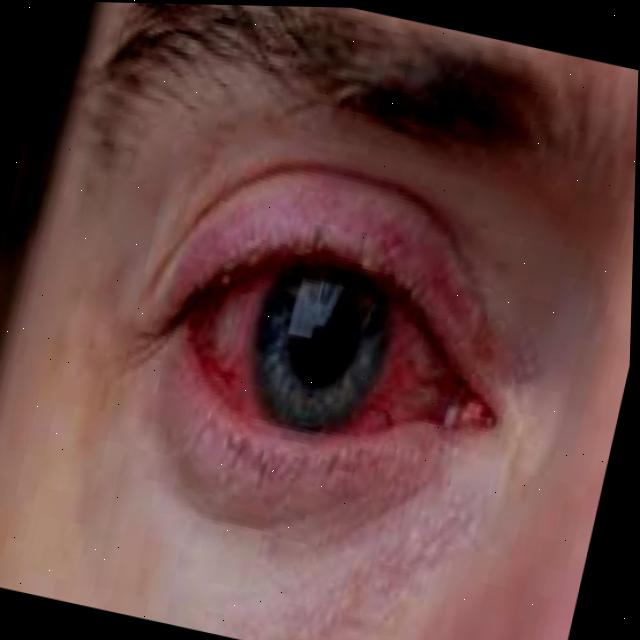Rosacea: (161, 167, 519, 472)
